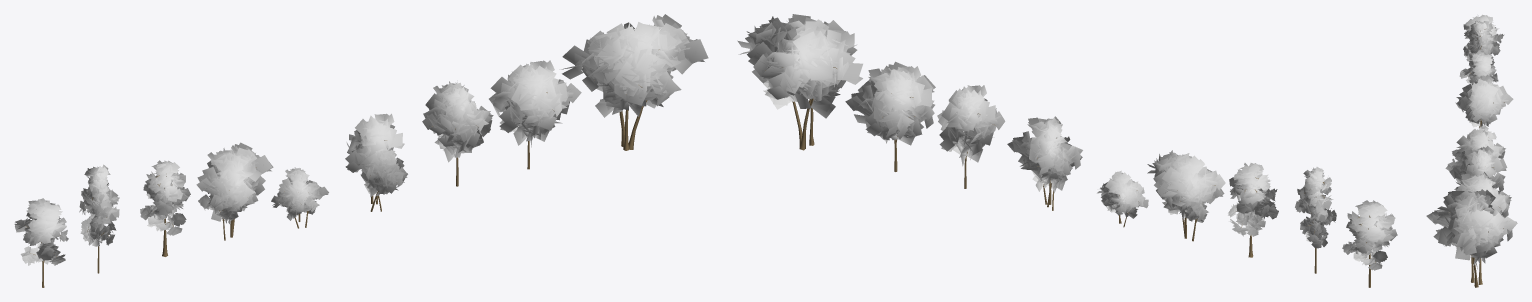
File: bushes test a.fbx
The picture shows the model from 3 angles, left to right: view 1: azimuth 30°, elevation 25°; view 2: azimuth 150°, elevation 25°; view 3: azimuth 270°, elevation 25°; orthographic projection. The views are drawn at different scales.
Visible parts, largest first — view 1: tree.004, Small_Thin_Tree_1A5.001, tree.001, tree.003, Small_Thin_Tree_1A4.001, Small_Thin_Tree_1A3.001, Small_Thin_Tree_1A1.001, Small_Thin_Tree_1A2.001, tree.002; view 2: tree.004, Small_Thin_Tree_1A5.001, tree.001, Small_Thin_Tree_1A4.001, tree.003, Small_Thin_Tree_1A3.001, Small_Thin_Tree_1A1.001, Small_Thin_Tree_1A2.001, tree.002; view 3: tree.004, tree.001, Small_Thin_Tree_1A4.001, Small_Thin_Tree_1A5.001, tree.003, Small_Thin_Tree_1A2.001, Small_Thin_Tree_1A3.001, Small_Thin_Tree_1A1.001, tree.002.
Part boxes in pixels (x1=…): tree.004: x1=561, y1=14, x2=708, y2=150; Small_Thin_Tree_1A5.001: x1=489, y1=60, x2=581, y2=169; tree.001: x1=196, y1=142, x2=273, y2=240; tree.003: x1=345, y1=113, x2=407, y2=211; Small_Thin_Tree_1A4.001: x1=422, y1=80, x2=493, y2=186; Small_Thin_Tree_1A3.001: x1=140, y1=160, x2=190, y2=256; Small_Thin_Tree_1A1.001: x1=14, y1=198, x2=68, y2=287; Small_Thin_Tree_1A2.001: x1=79, y1=164, x2=119, y2=273; tree.002: x1=271, y1=167, x2=328, y2=228; tree.004: x1=737, y1=14, x2=862, y2=150; Small_Thin_Tree_1A5.001: x1=845, y1=61, x2=935, y2=171; tree.001: x1=1147, y1=150, x2=1225, y2=241; Small_Thin_Tree_1A4.001: x1=937, y1=85, x2=1005, y2=188; tree.003: x1=1007, y1=116, x2=1082, y2=210; Small_Thin_Tree_1A3.001: x1=1228, y1=163, x2=1278, y2=257; Small_Thin_Tree_1A1.001: x1=1342, y1=200, x2=1397, y2=287; Small_Thin_Tree_1A2.001: x1=1295, y1=167, x2=1336, y2=273; tree.002: x1=1097, y1=170, x2=1148, y2=227; tree.004: x1=1426, y1=189, x2=1517, y2=287; tree.001: x1=1455, y1=74, x2=1513, y2=127; Small_Thin_Tree_1A4.001: x1=1449, y1=146, x2=1507, y2=191; Small_Thin_Tree_1A5.001: x1=1443, y1=172, x2=1511, y2=217; tree.003: x1=1445, y1=129, x2=1505, y2=171; Small_Thin_Tree_1A2.001: x1=1463, y1=20, x2=1494, y2=64; Small_Thin_Tree_1A3.001: x1=1459, y1=50, x2=1498, y2=84; Small_Thin_Tree_1A1.001: x1=1463, y1=14, x2=1504, y2=61; tree.002: x1=1477, y1=126, x2=1496, y2=140.
Size of the model in its own units: 6104 by 1122 by 990.
